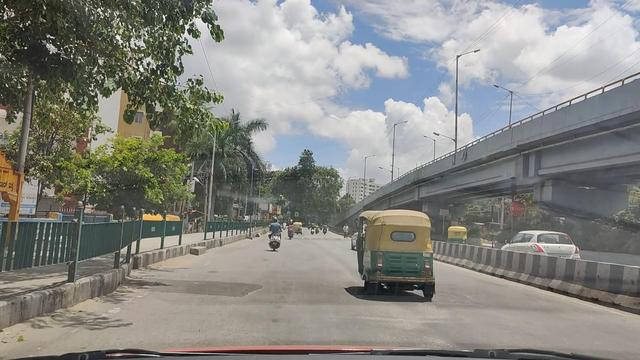LMV: (359, 204, 435, 296)
RoadDamages: (380, 306, 468, 353)
